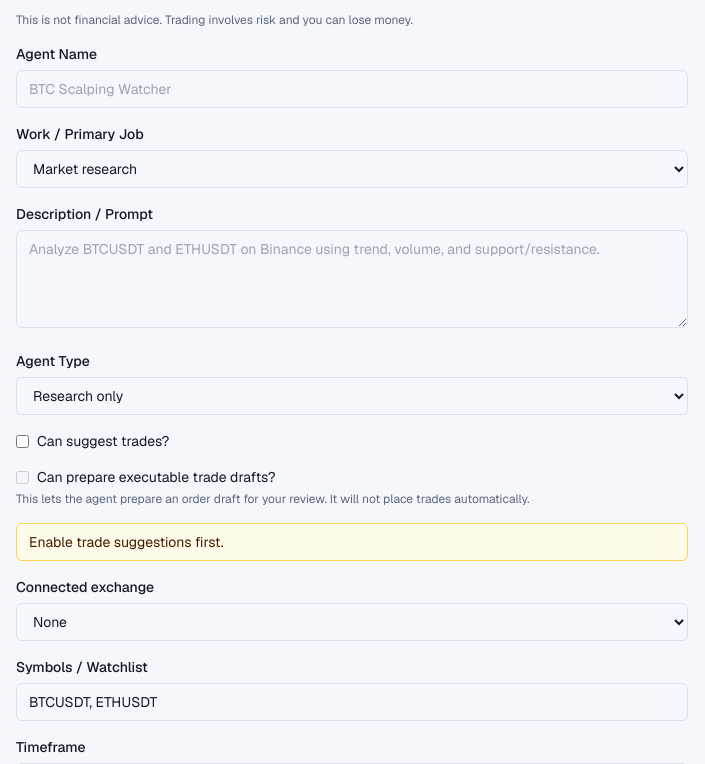
it: CreateAgentForm executable trades › does not permanently disable executable checkbox when gates are satisfied
Expected: the checkbox labelled "Can prepare executable trade drafts?" is disabled, [16,470,29,484]
Click the checkbox labelled "Can suggest trades?".
click(22, 441)  # box [16,434,29,448]
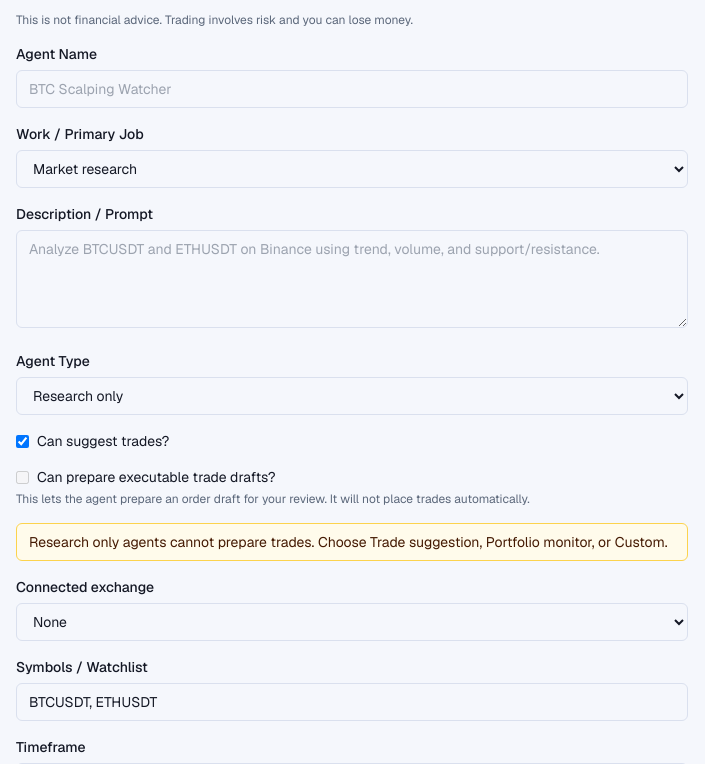
Select "Trade suggestion" in the dropdown labelled "Agent Type" at (352, 396), box [16,377,688,415]
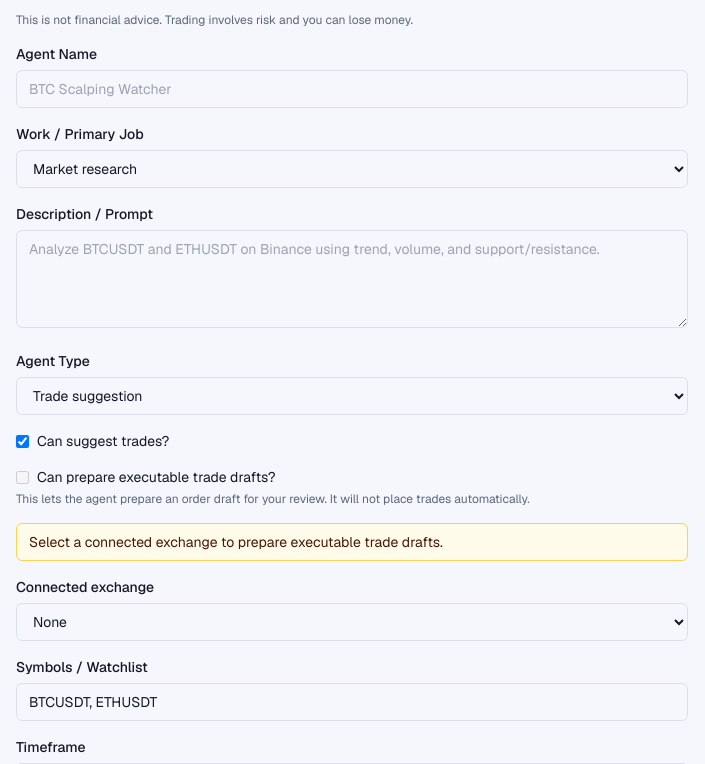
Select "Binance - spider" in the dropdown labelled "Connected exchange" at (352, 622), box [16,603,688,641]
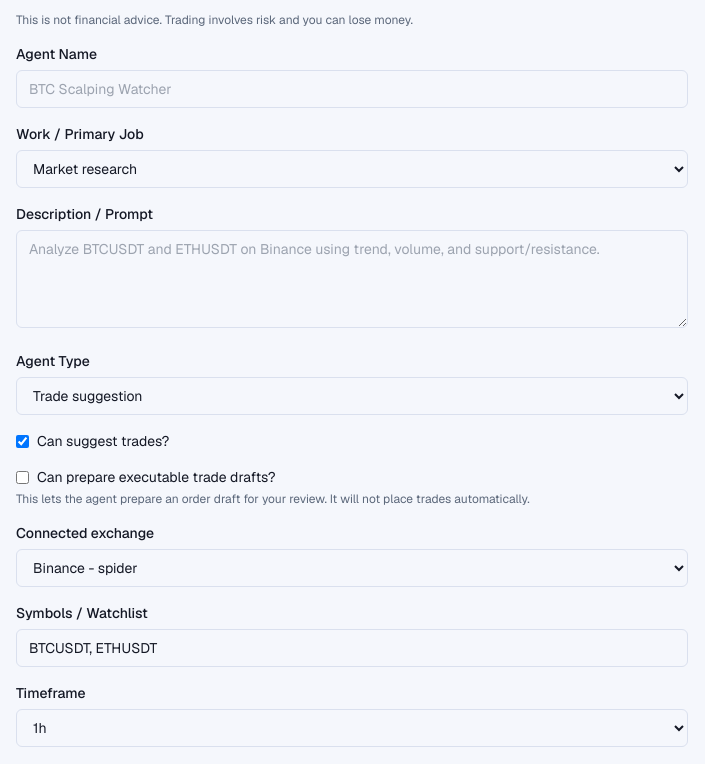
Expected: the checkbox labelled "Can prepare executable trade drafts?" is enabled, [16,470,29,484]
